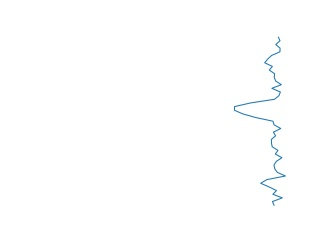interdistributaryEstuary: (229, 37, 290, 207)
